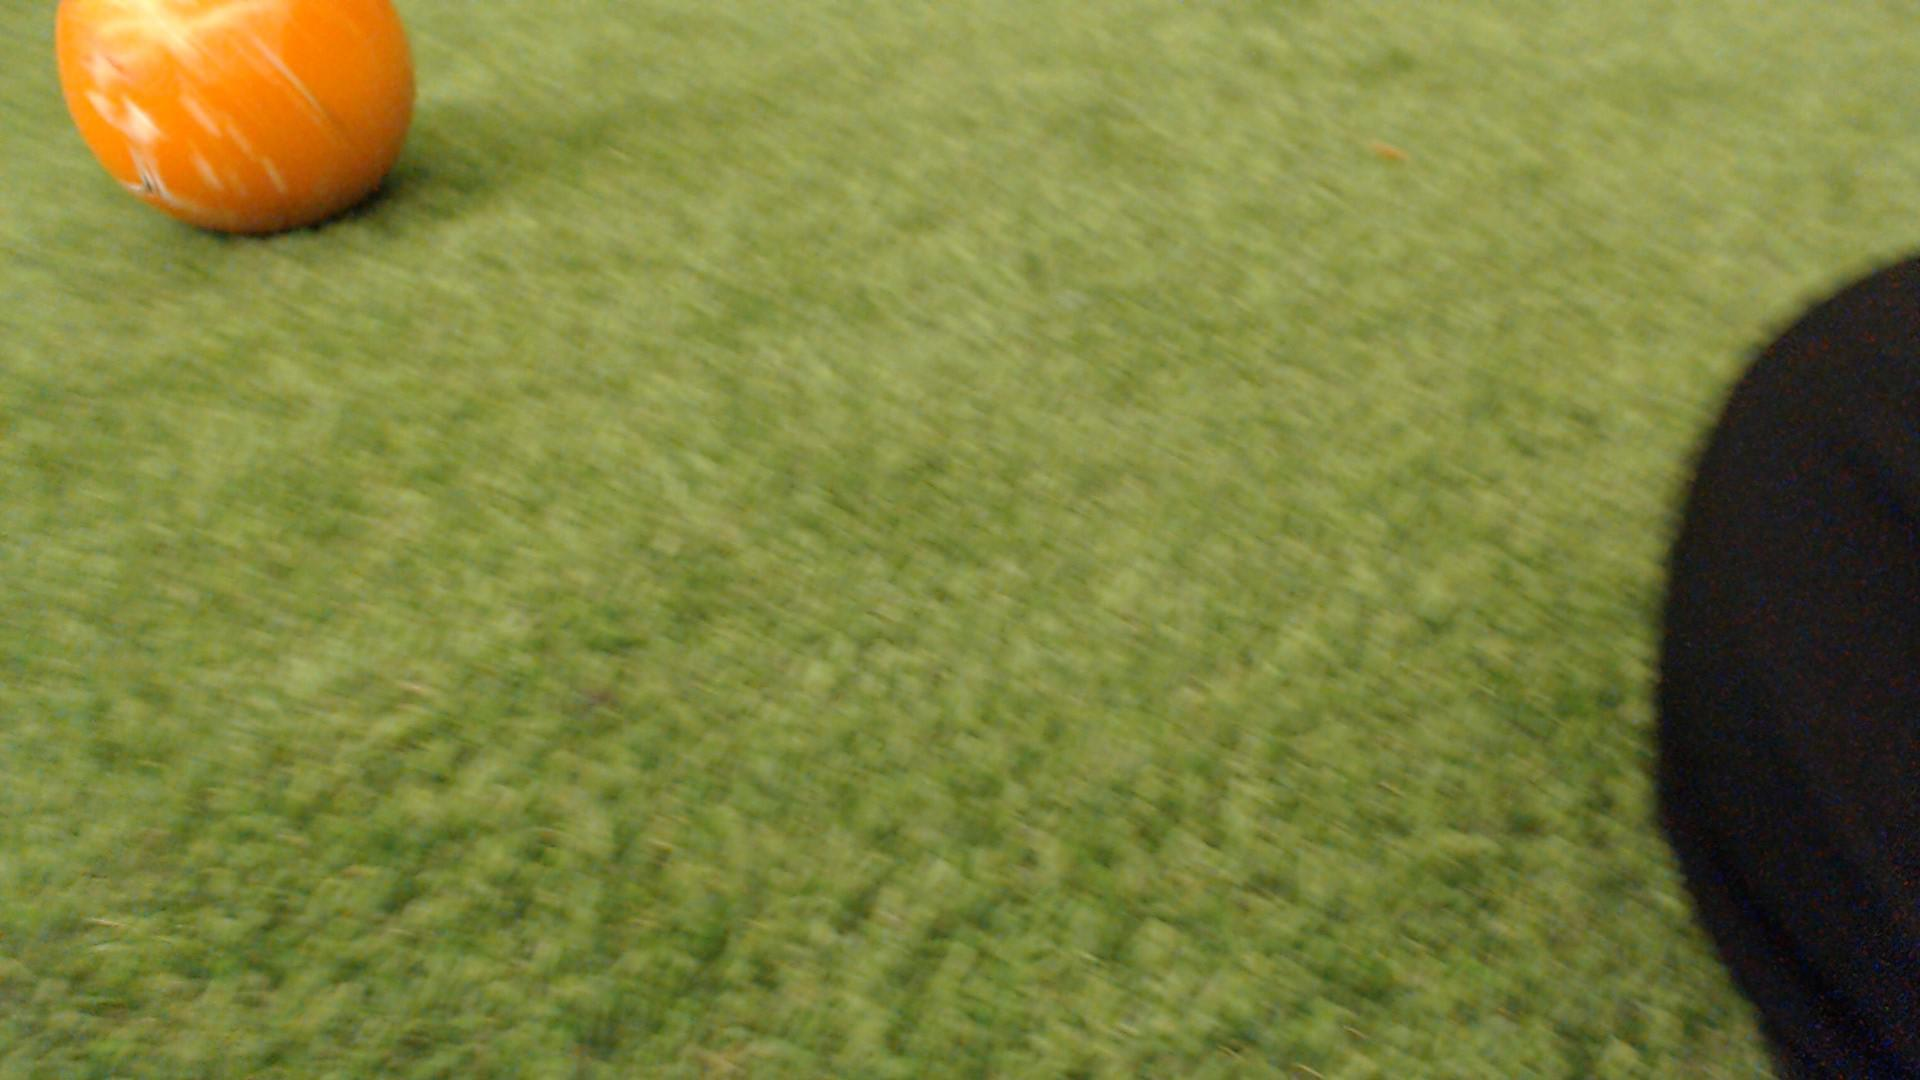bola: (34, 0, 434, 255)
